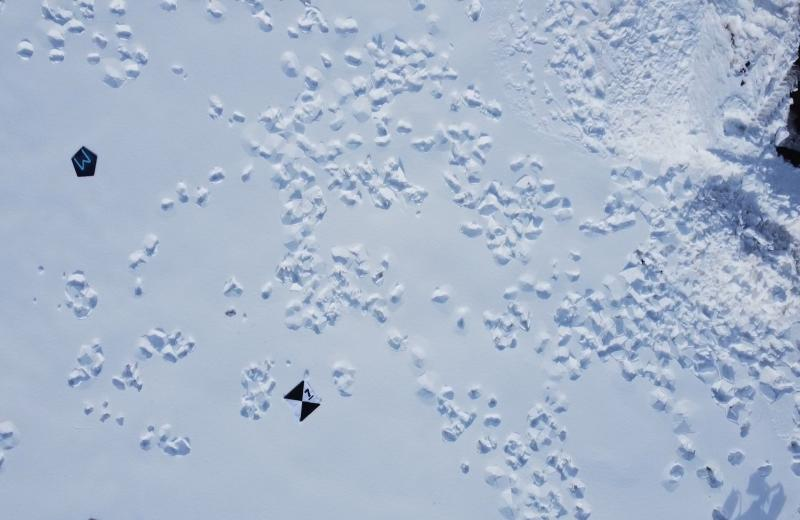Pentagon: (67, 143, 101, 182)
